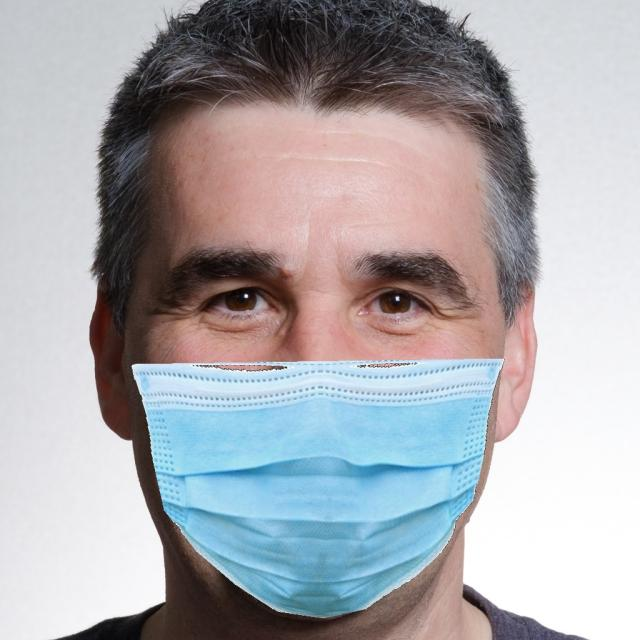1_mascarilla: (132, 350, 514, 624)
